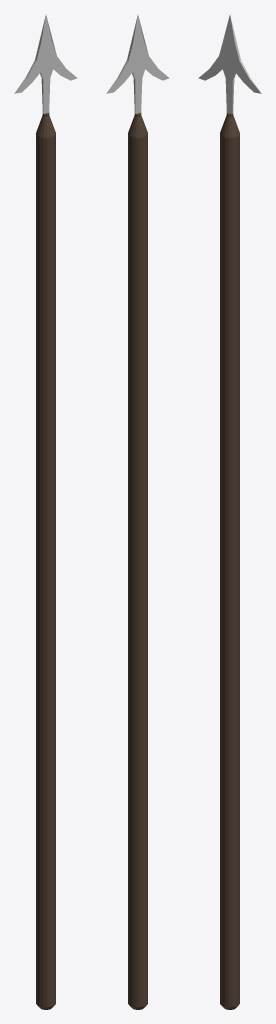
The model's file is Spear enemy m.fbx.
3 renders of one model, left to right at view 1: azimuth 30°, elevation 25°; view 2: azimuth 210°, elevation 25°; view 3: azimuth 330°, elevation 25°, orthographic.
Parts seen in each view (by area): view 1: Cylinder; view 2: Cylinder; view 3: Cylinder.
Boxes of the visible parts, x1,y1,x2,y2 form: Cylinder: (14, 15, 77, 1009); Cylinder: (106, 15, 169, 1009); Cylinder: (198, 15, 261, 1009).
Bounding box in the file's own units: 11.07 × 165 × 3.06.
1 material, 1 textured.
